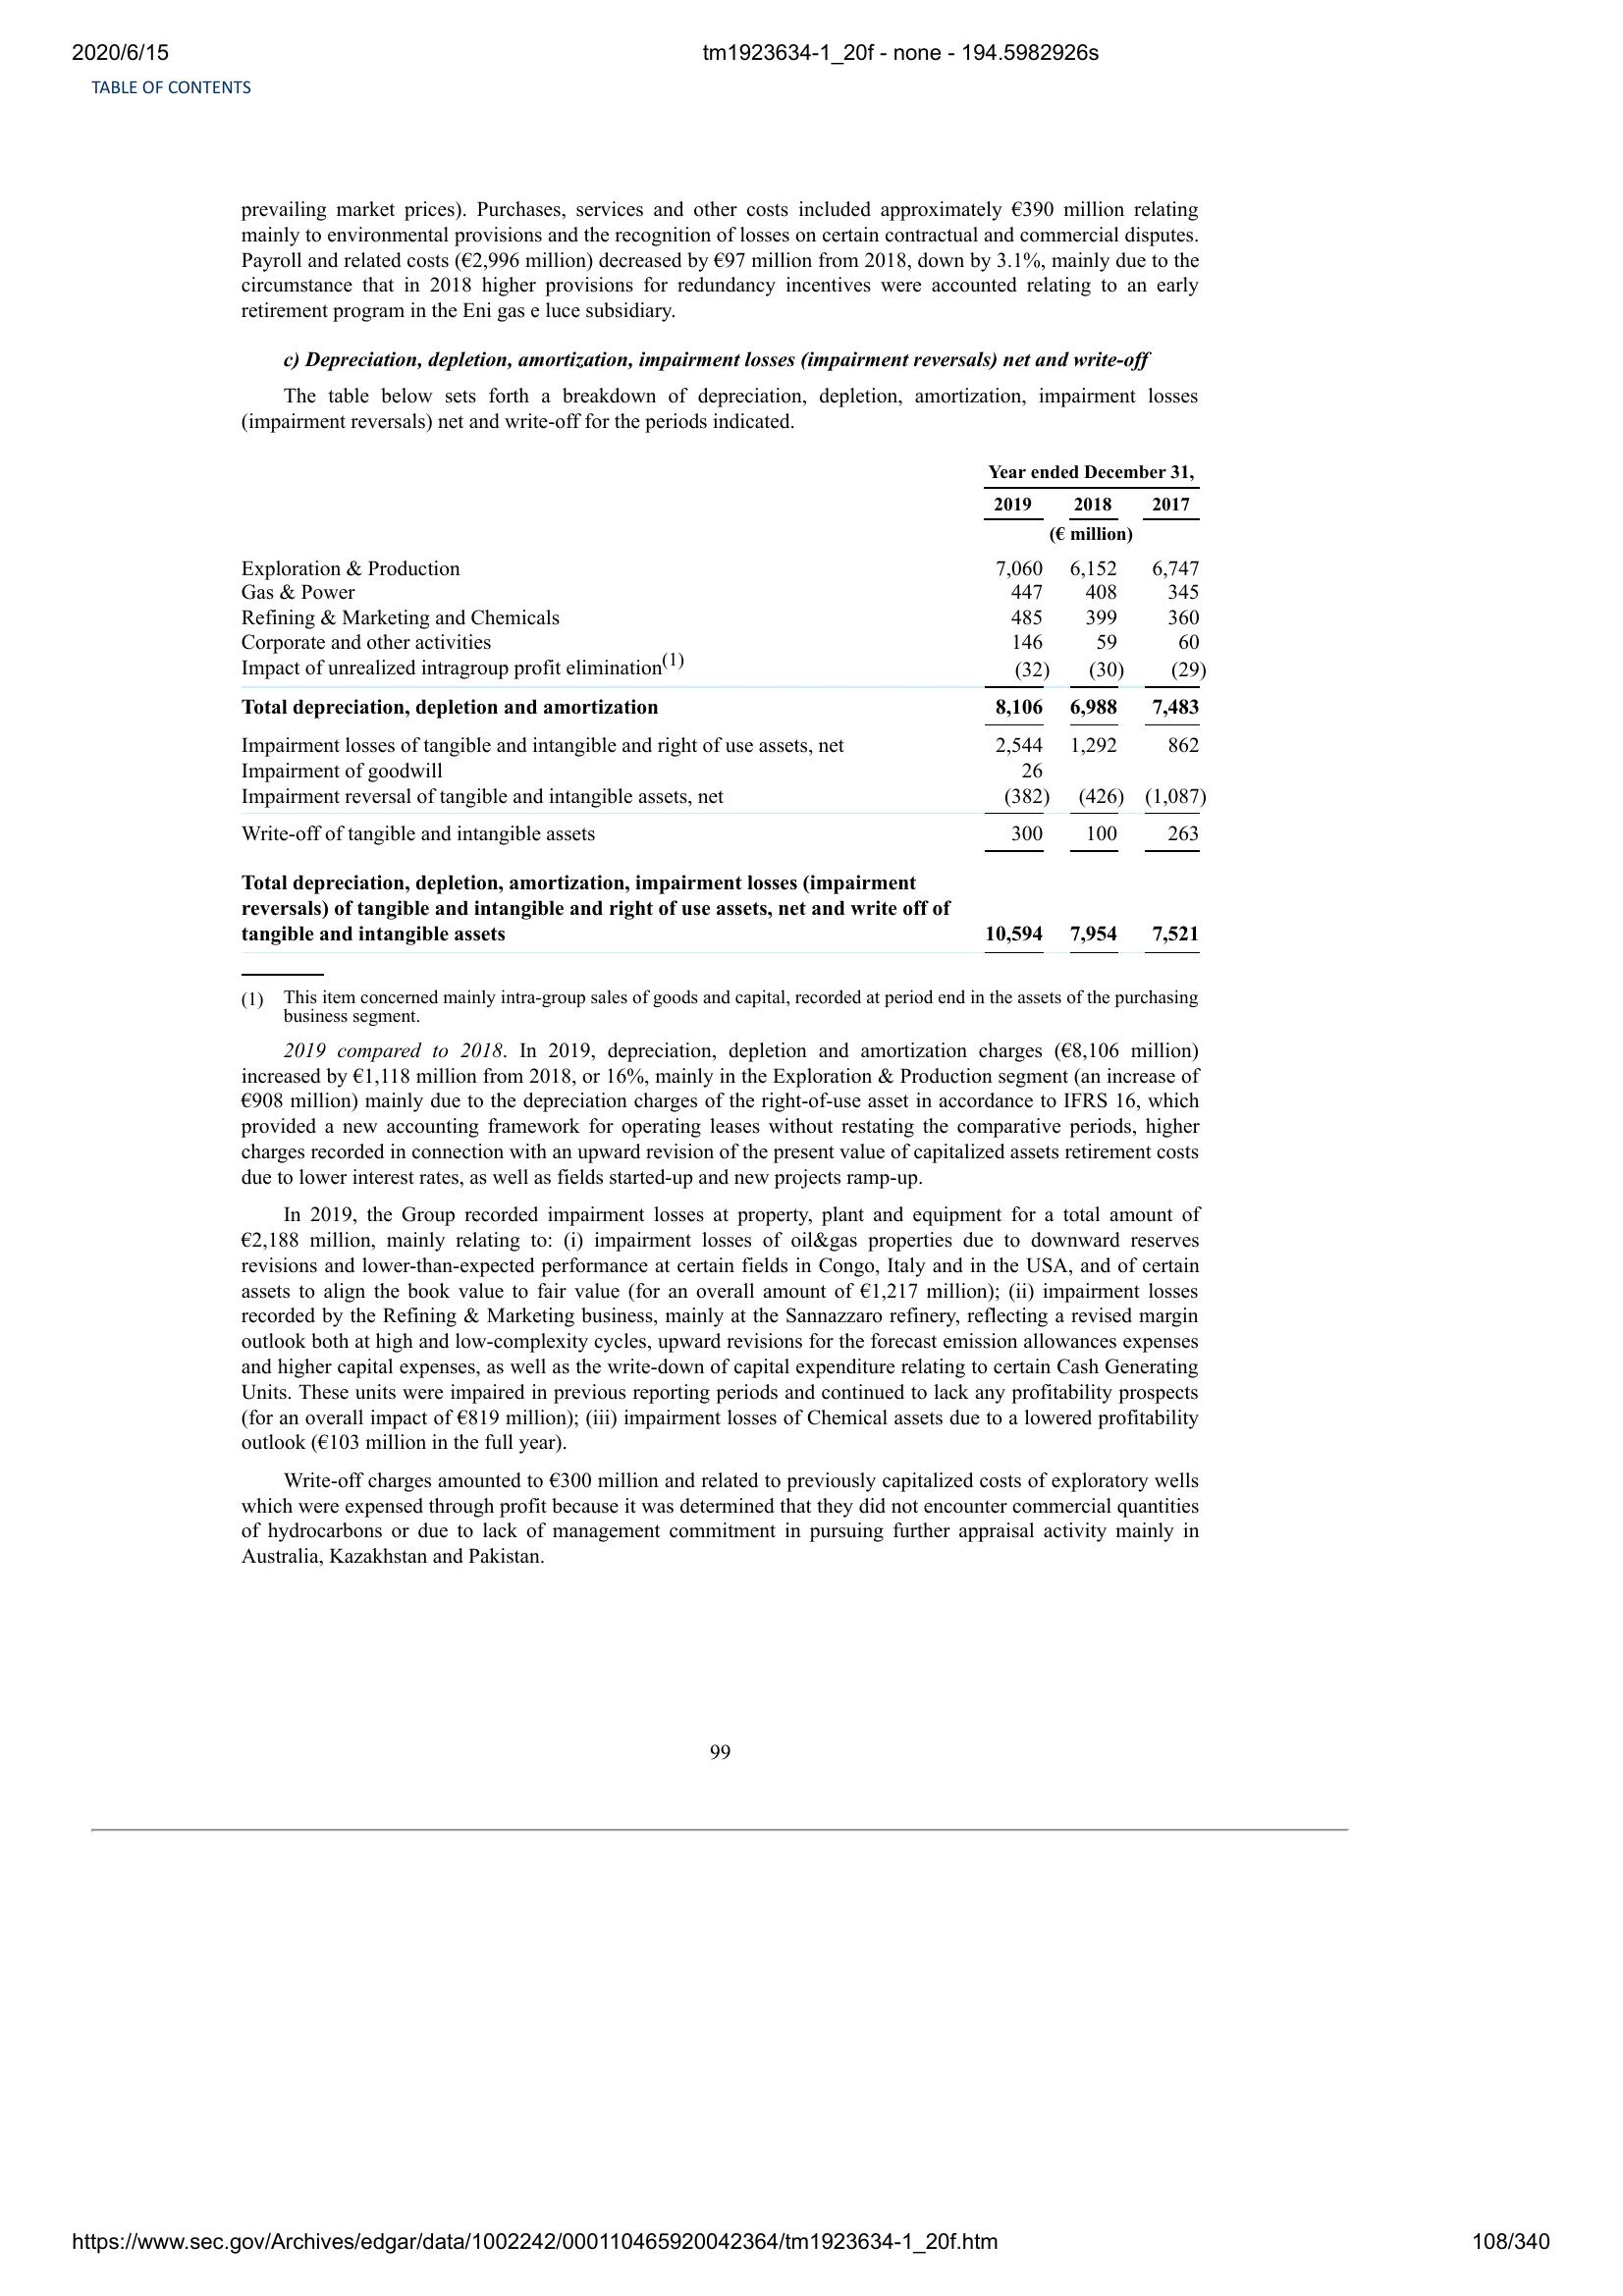table: (230, 455, 1210, 964)
